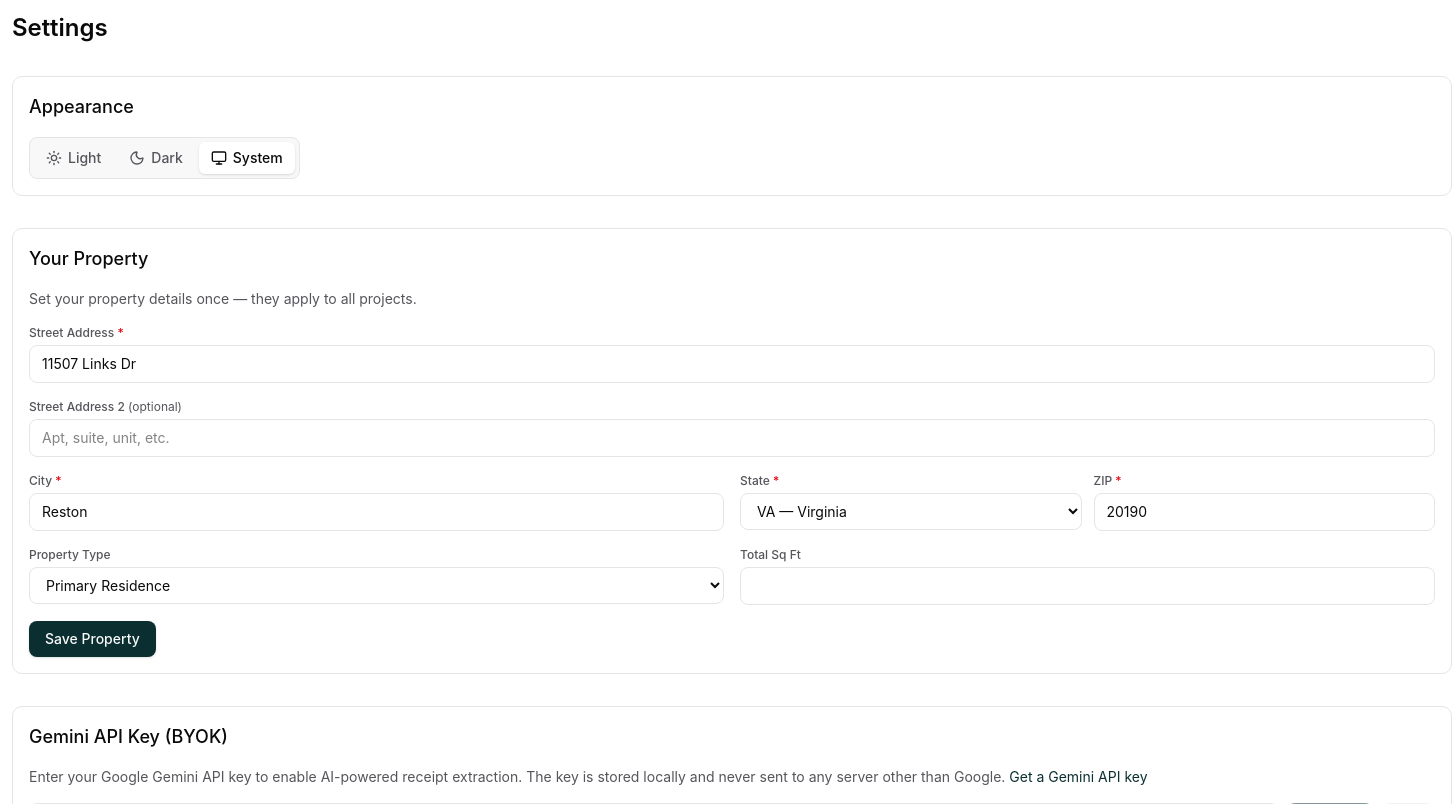
Test: SettingsPage — property form › rejects address without both a number and a letter
The width and height of the screenshot is (1452, 804).
Replace the text in the field with id "address" with "NoNumbers" at (732, 364), box [29,345,1435,383]
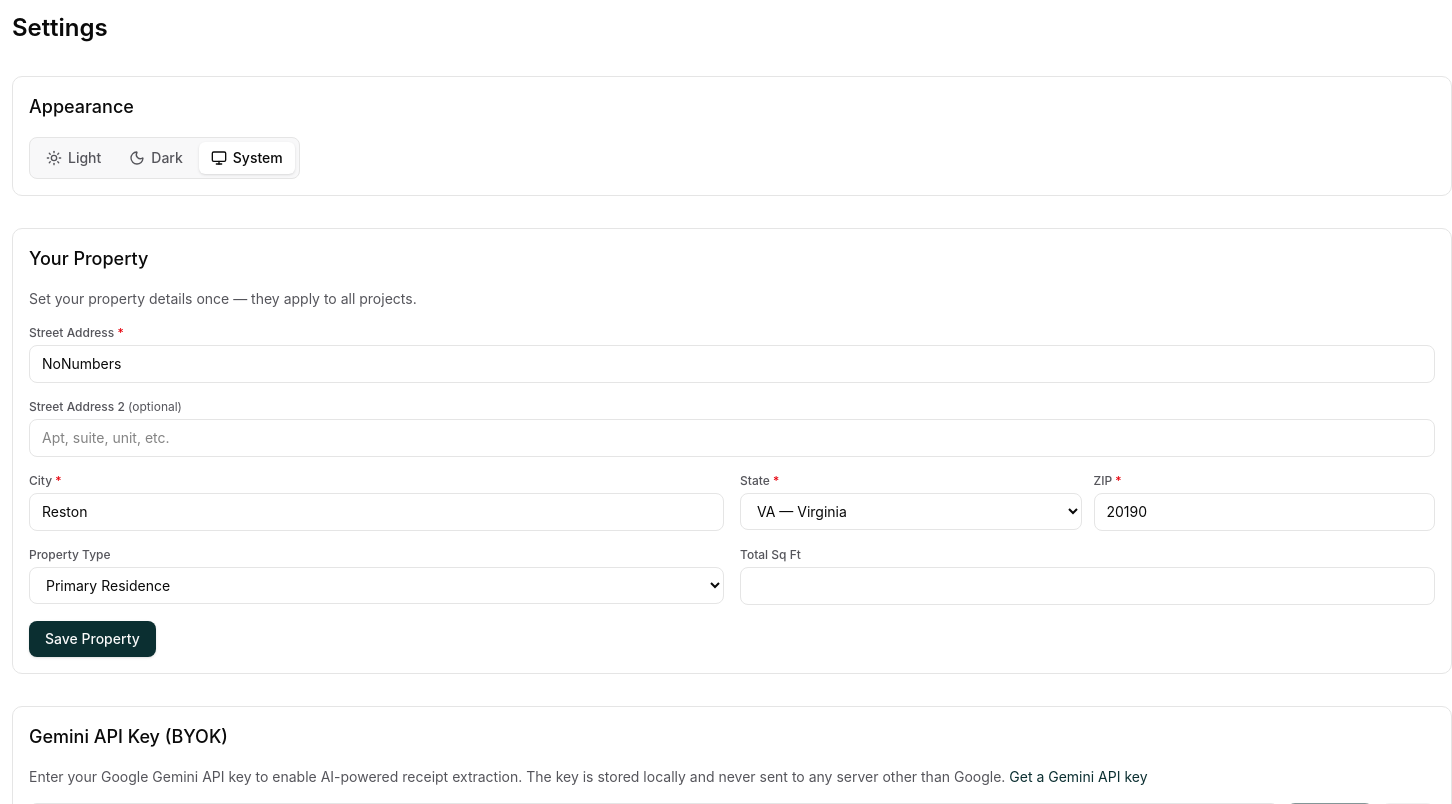
Submit the form with id "address", box [12,228,1451,674]
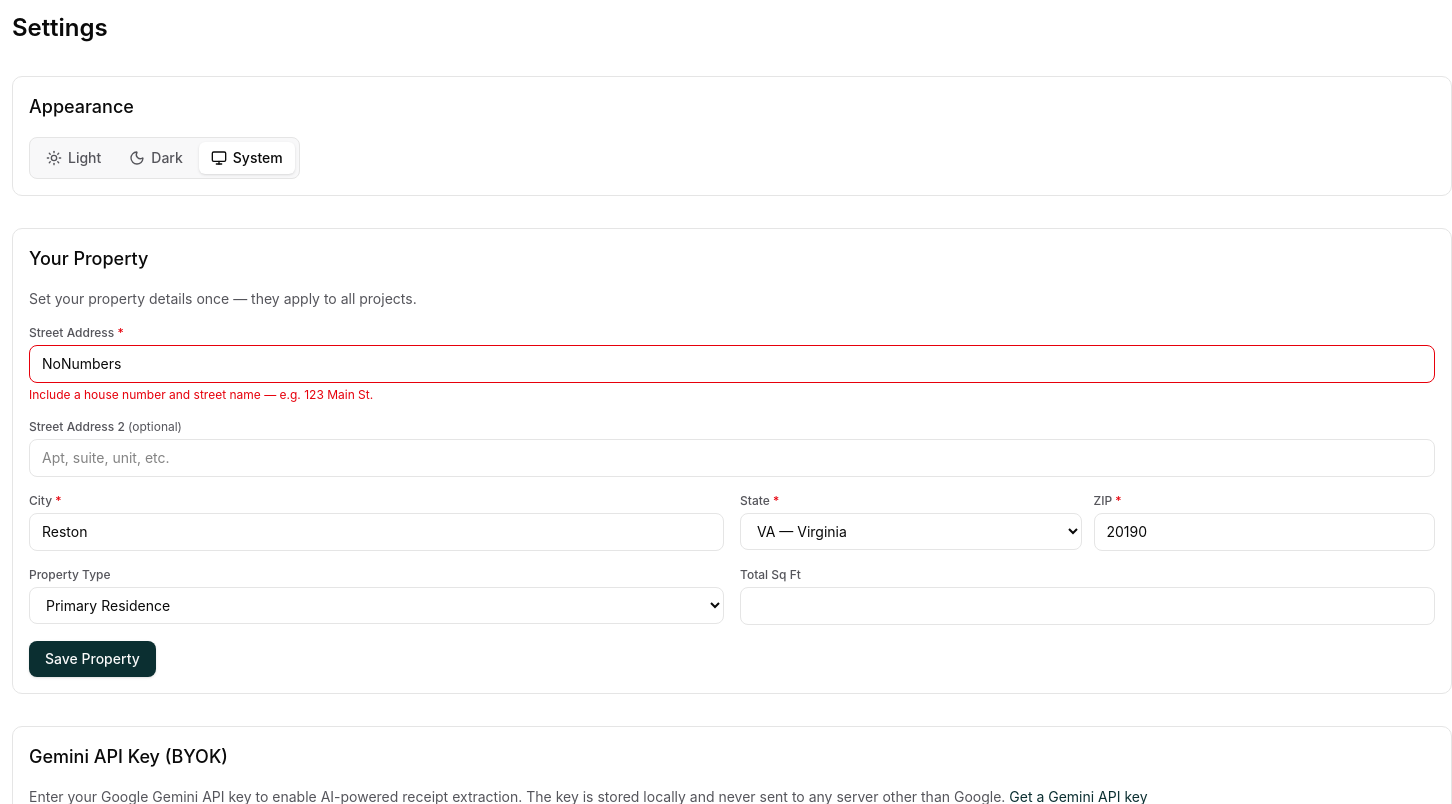
expect the text "Include a house number and street name — e.g. 123 Main St." is shown: met, box [29,387,373,402]
